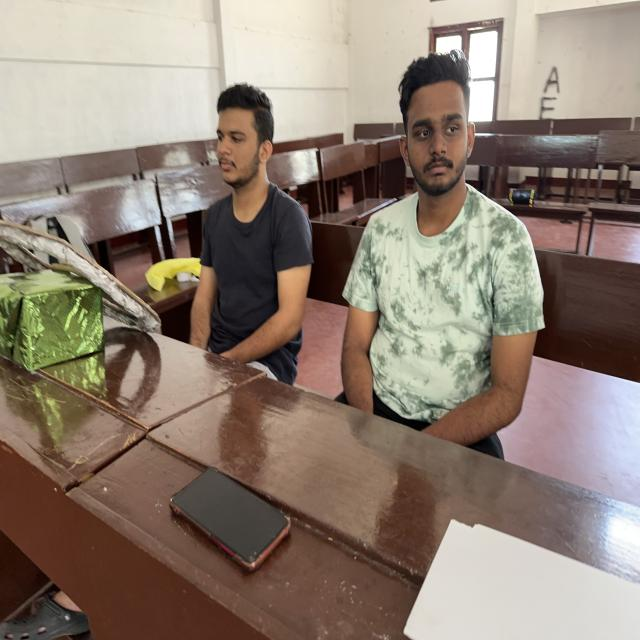no-seatbelt: (348, 193, 548, 482), (186, 189, 316, 406)
